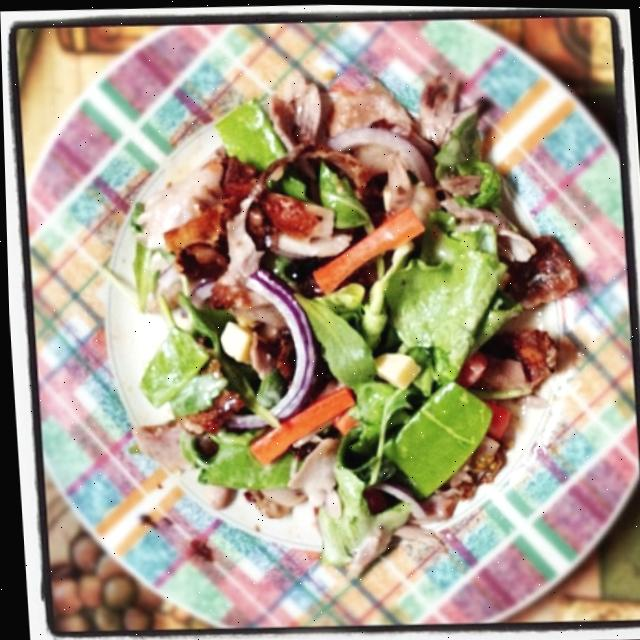鸡肉料理 含炸鸡: (57, 59, 618, 608)
